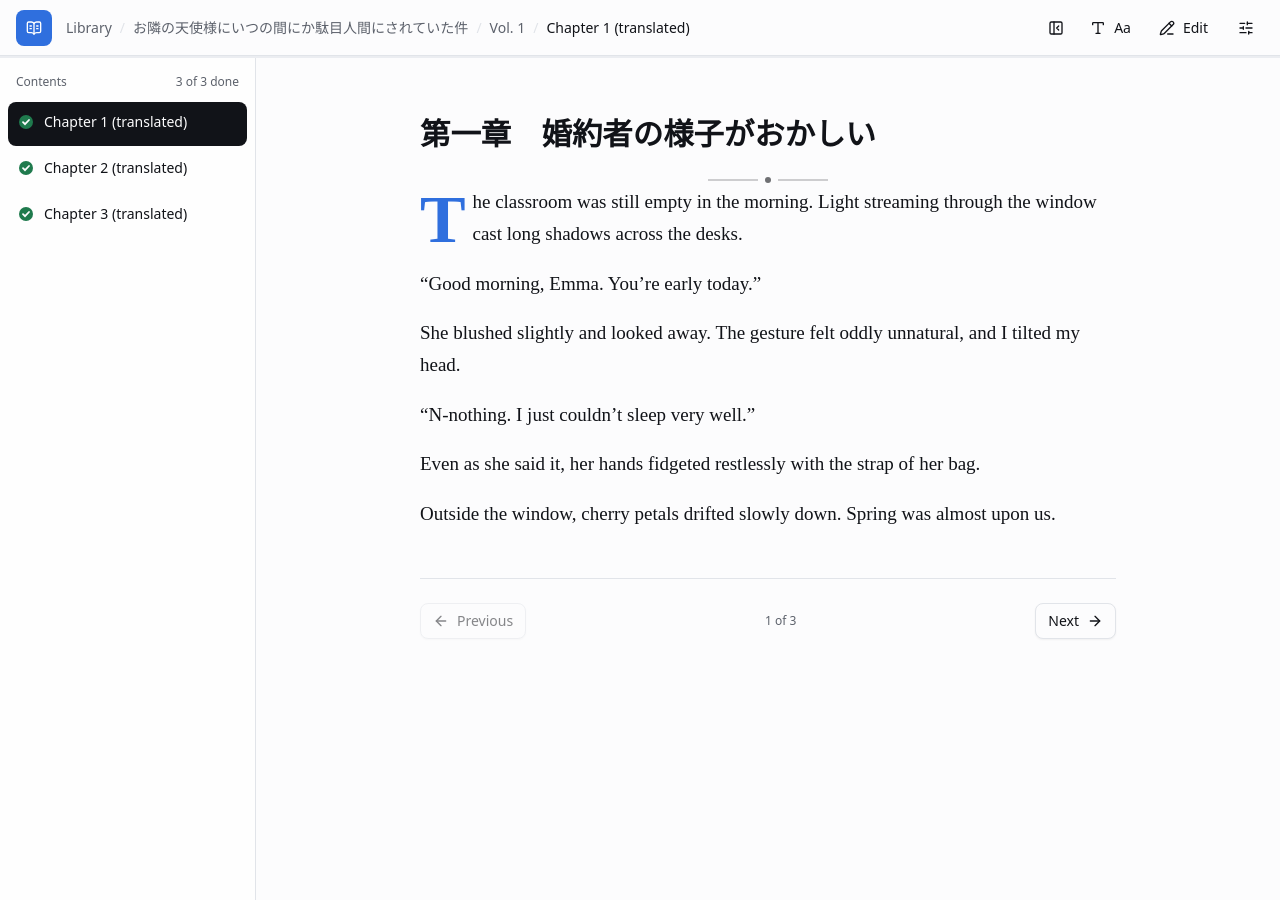
Test: Aa sheet › switches the view
This screenshot has width=1280, height=900.
expect the text "朝の教室には" is not shown: met
Click the button with aria-label "Reader settings". click: click(1110, 28)
box: [1078,10,1143,46]
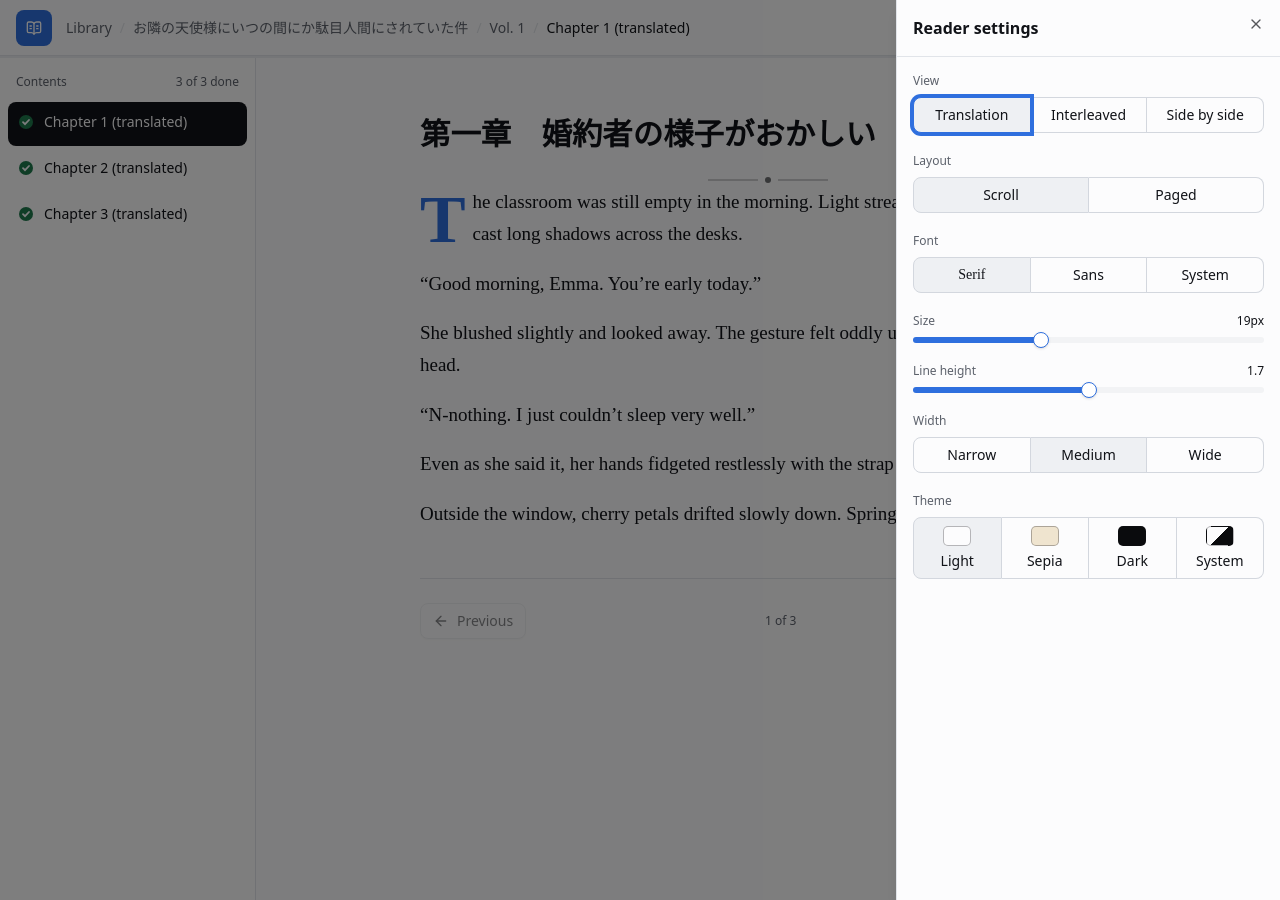
Click the radio button labelled "Interleaved". click: click(1089, 115)
box: [1031,97,1147,133]
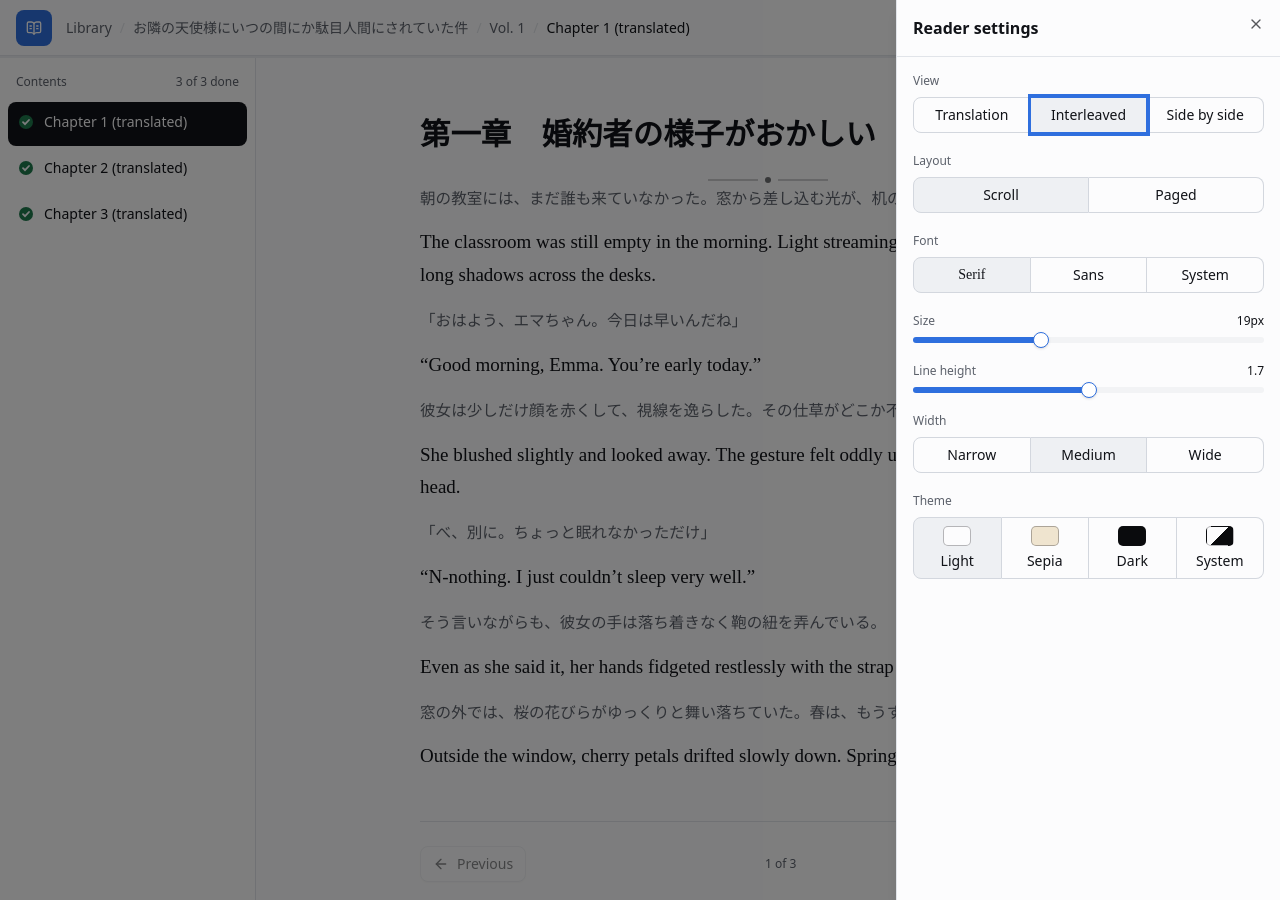
expect the text "朝の教室には、まだ誰も来ていなかった。窓から差し込む光が、机の上に長い影を落としている。" is shown: met, box [420,186,1116,212]
